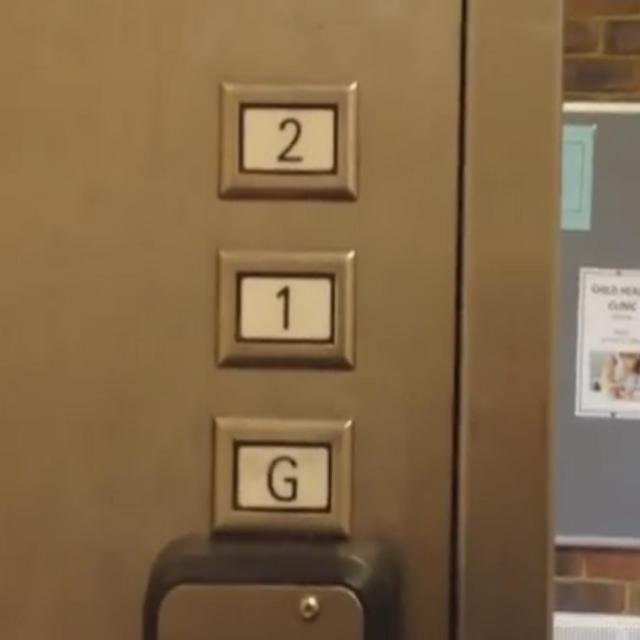1: (210, 241, 359, 374)
2: (213, 71, 362, 206)
G: (208, 409, 358, 542)
